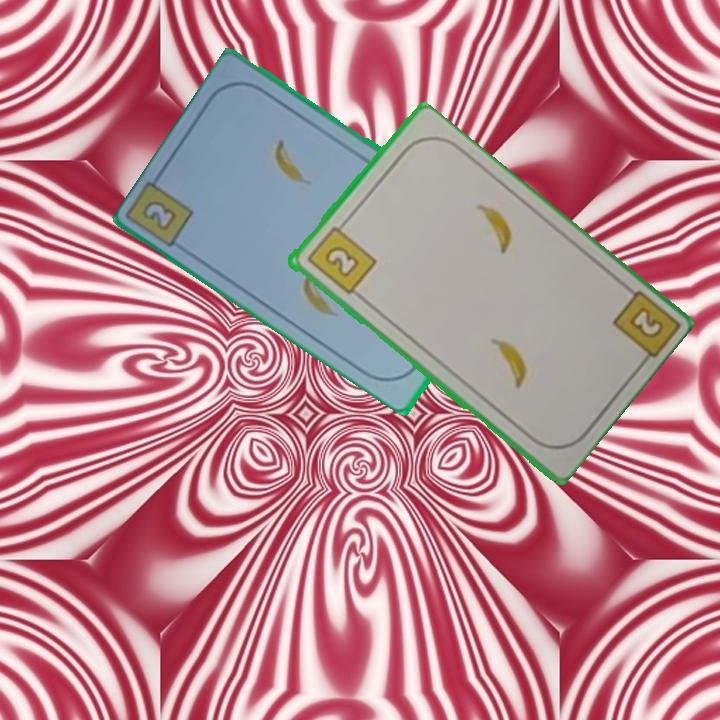2b: (302, 217, 379, 297), (625, 303, 666, 342), (139, 196, 181, 234)
